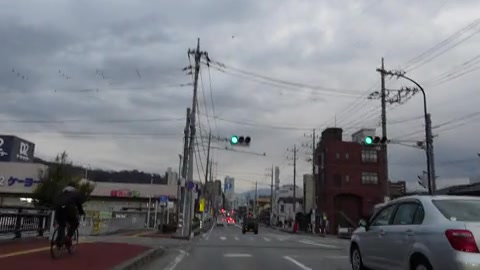traffic_sign: (186, 179, 194, 191), (224, 182, 233, 191), (160, 195, 167, 204)
